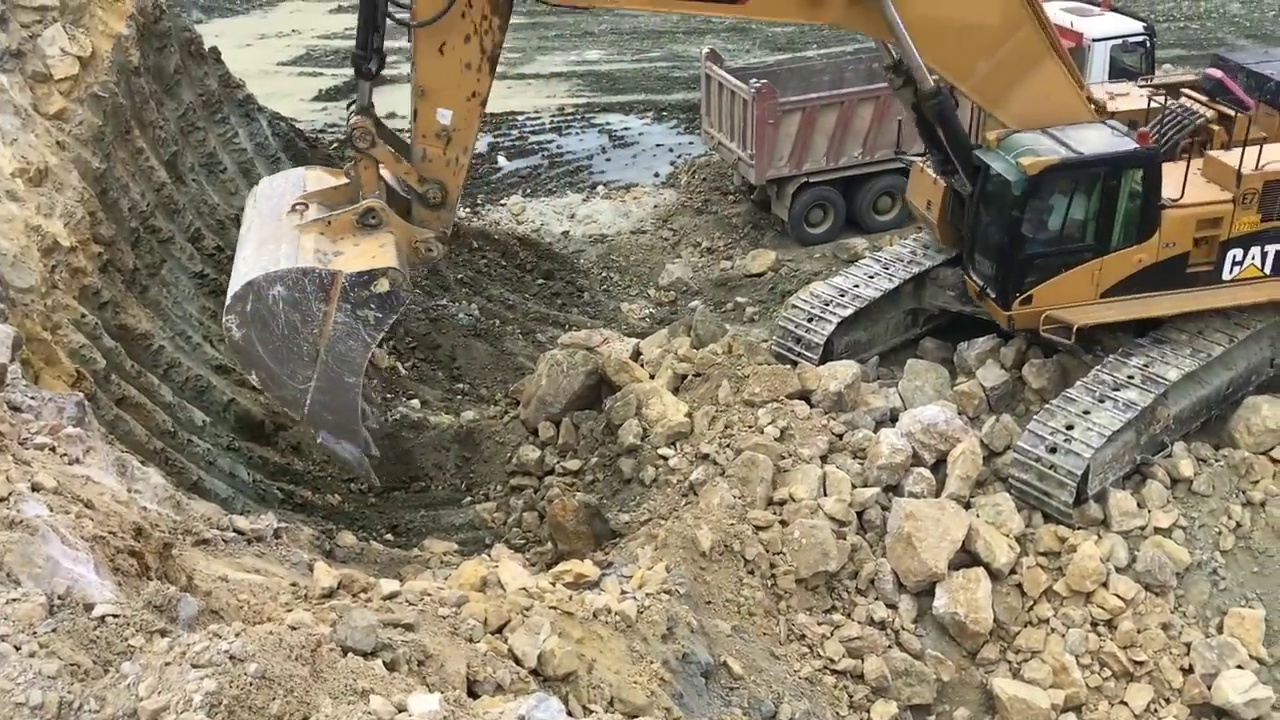excavator: (219, 3, 1280, 528)
truck: (678, 4, 1161, 251)
